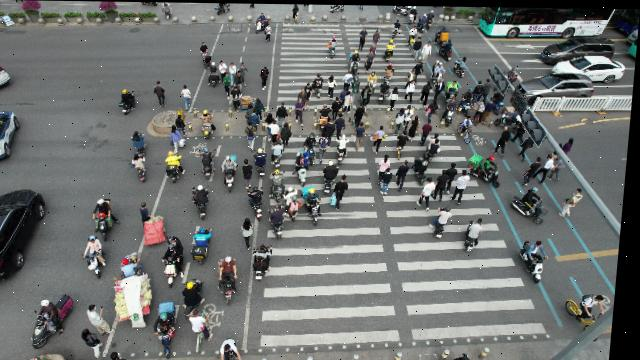non-motor-vehicle: (121, 252, 161, 320), (39, 294, 82, 338), (511, 186, 555, 223), (525, 236, 557, 281), (157, 306, 183, 357), (566, 289, 607, 321), (220, 254, 245, 304), (95, 199, 125, 234), (469, 154, 505, 182), (254, 244, 280, 280), (194, 227, 218, 264), (304, 187, 328, 221), (164, 151, 189, 182), (168, 239, 185, 284), (193, 309, 213, 347), (88, 236, 109, 271), (272, 202, 290, 239), (468, 217, 488, 250), (194, 186, 215, 217), (200, 148, 221, 177), (187, 277, 209, 304), (459, 83, 478, 114), (201, 110, 221, 139), (288, 188, 306, 220), (120, 88, 140, 115), (132, 154, 151, 181), (253, 150, 272, 177), (272, 169, 288, 200), (415, 156, 434, 182), (226, 155, 240, 190), (428, 130, 445, 156), (133, 130, 152, 153), (297, 152, 312, 181), (397, 131, 412, 159), (250, 186, 269, 208), (324, 162, 338, 190), (225, 337, 242, 360), (459, 116, 476, 139), (446, 98, 459, 126), (504, 109, 524, 127), (433, 23, 454, 40), (455, 55, 471, 76), (338, 136, 352, 160), (208, 61, 220, 88), (313, 72, 326, 96), (348, 50, 362, 72), (304, 133, 318, 154), (256, 12, 272, 30), (494, 89, 507, 109), (442, 41, 456, 59), (380, 79, 392, 100), (448, 79, 461, 98), (433, 60, 447, 76), (367, 71, 380, 88), (408, 27, 417, 51), (328, 35, 338, 56), (161, 2, 174, 18), (214, 2, 232, 13), (504, 66, 518, 80), (385, 62, 397, 76), (390, 19, 401, 34), (477, 99, 488, 114), (322, 105, 331, 123), (386, 44, 396, 60), (408, 6, 417, 23), (418, 11, 426, 30), (427, 8, 435, 26), (330, 4, 347, 12), (390, 5, 409, 12), (389, 40, 396, 46)
person: (142, 202, 172, 240), (560, 186, 589, 218), (87, 304, 120, 331), (83, 330, 111, 357), (438, 203, 456, 239), (334, 174, 352, 209), (422, 176, 438, 211), (397, 159, 413, 191), (243, 120, 260, 148), (244, 160, 261, 188), (246, 218, 260, 249), (497, 125, 512, 153), (447, 161, 461, 191), (233, 86, 252, 108), (438, 169, 452, 196), (179, 84, 194, 109), (199, 41, 214, 66), (273, 142, 288, 167), (155, 84, 170, 108), (381, 171, 396, 195), (320, 133, 332, 163), (376, 125, 389, 152), (275, 101, 290, 124), (296, 99, 309, 124), (220, 70, 233, 95), (171, 130, 188, 149), (530, 156, 542, 181), (360, 85, 373, 108), (262, 24, 278, 42), (566, 136, 580, 156), (337, 115, 350, 136), (325, 117, 340, 135), (282, 121, 296, 140), (355, 124, 366, 148), (544, 152, 553, 181), (515, 119, 528, 139), (521, 138, 536, 155), (488, 97, 498, 122), (458, 174, 471, 193), (428, 102, 441, 121), (556, 157, 567, 179), (260, 67, 272, 87), (175, 114, 190, 130), (395, 106, 405, 130), (358, 28, 369, 49), (327, 74, 338, 95), (413, 115, 422, 140), (408, 78, 418, 100), (434, 80, 444, 101), (390, 86, 401, 105), (355, 105, 367, 122), (455, 352, 480, 360), (218, 58, 229, 76), (423, 42, 432, 64), (414, 60, 428, 74), (382, 154, 394, 170), (407, 105, 416, 126), (272, 121, 282, 139), (333, 97, 342, 117), (485, 78, 494, 98), (423, 81, 431, 103), (344, 71, 354, 88), (367, 52, 377, 69), (475, 79, 485, 96), (115, 352, 136, 360), (415, 38, 423, 58), (255, 96, 267, 109), (423, 122, 434, 136), (229, 63, 238, 80), (289, 4, 300, 17), (348, 91, 355, 111), (251, 109, 263, 120), (237, 72, 246, 85), (408, 69, 417, 81), (300, 87, 310, 97), (305, 82, 315, 92), (238, 61, 249, 70), (341, 88, 349, 99), (374, 28, 381, 40), (268, 114, 276, 123), (249, 103, 256, 113), (371, 43, 379, 50)
